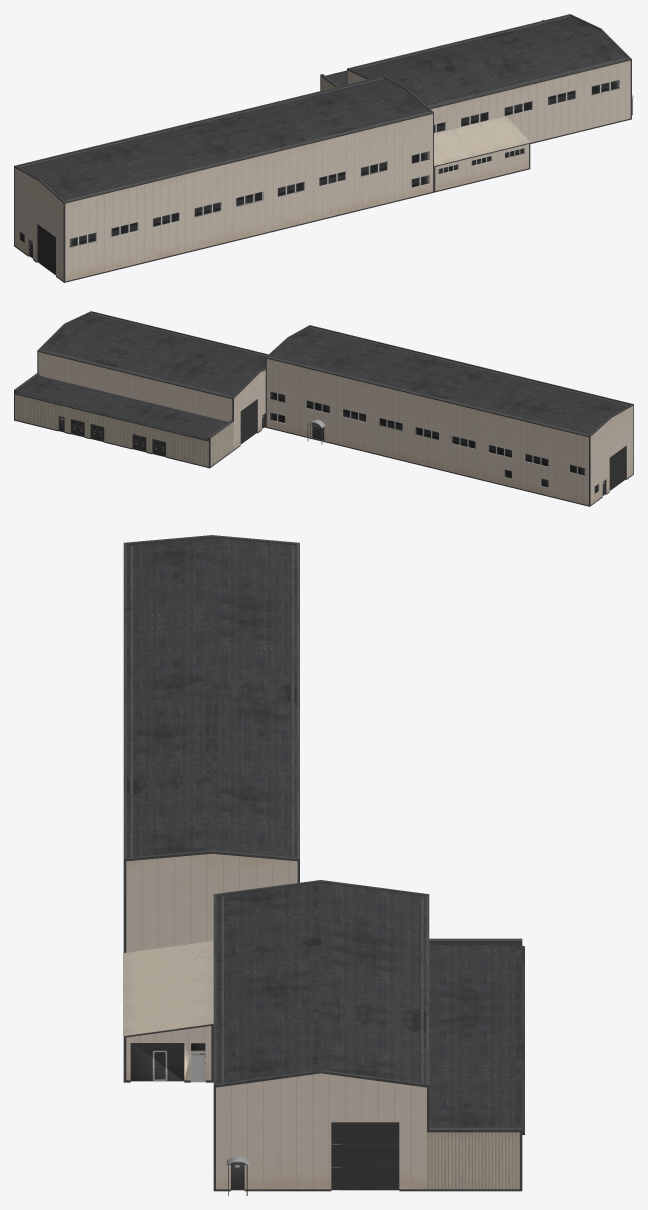
The model's file is plant-building26.glb.
3 renders of one model, top to bottom at view 1: azimuth 30°, elevation 25°; view 2: azimuth 150°, elevation 25°; view 3: azimuth 270°, elevation 25°, orthographic. The views are drawn at different scales.
Parts seen in each view (by area): view 1: Object8935796; view 2: Object8935796; view 3: Object8935796.
Part boxes in pixels (x1,y1,x2,y2): Object8935796: (14,14,633,282); Object8935796: (14,311,633,506); Object8935796: (123,535,524,1195).
Bounding box in the file's own units: 80.23 × 10.84 × 26.6.
1 material, 1 textured.
